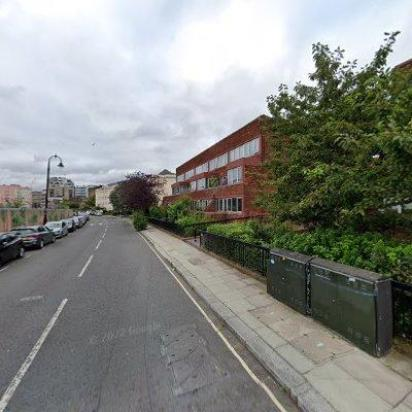stationary-car-onstreet: (10, 223, 56, 251), (0, 229, 24, 268), (42, 220, 68, 240), (61, 217, 75, 233), (74, 217, 82, 227), (95, 209, 101, 215)
